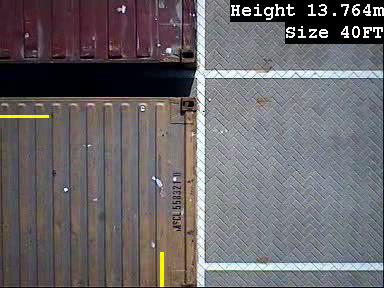groundmarker_2: (181, 1, 253, 101)
